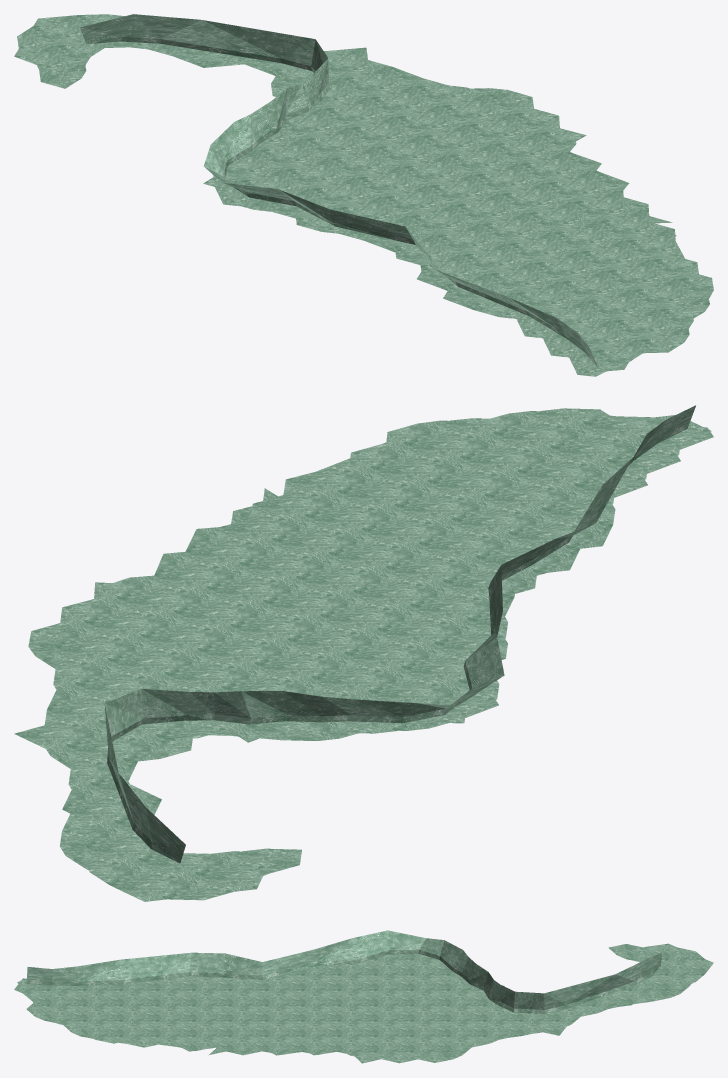
The picture shows the model from 3 angles, top to bottom: view 1: azimuth 30°, elevation 25°; view 2: azimuth 150°, elevation 25°; view 3: azimuth 270°, elevation 25°; orthographic projection. The views are drawn at different scales.
Visible parts, largest first — view 1: mesh00; view 2: mesh00; view 3: mesh00.
Boxes of the visible parts, left/top/right/bottom form: mesh00: left=14, top=14, right=713, bottom=376; mesh00: left=14, top=405, right=713, bottom=901; mesh00: left=14, top=930, right=713, bottom=1063.
Bounding box in the file's own units: 3428 × 310 × 8470.
